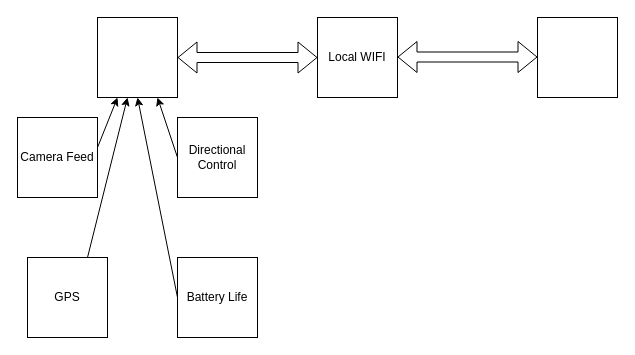
This 635x355 diagram has some shape labels left out. The shapes that lost their labels are listed below. From the top down, each one's box as (x1, y1, x2, y2) in pixels, then its label:
(96, 16, 178, 98): GUI (Client on Computer)
(536, 16, 618, 98): ESP on RC car (server)
